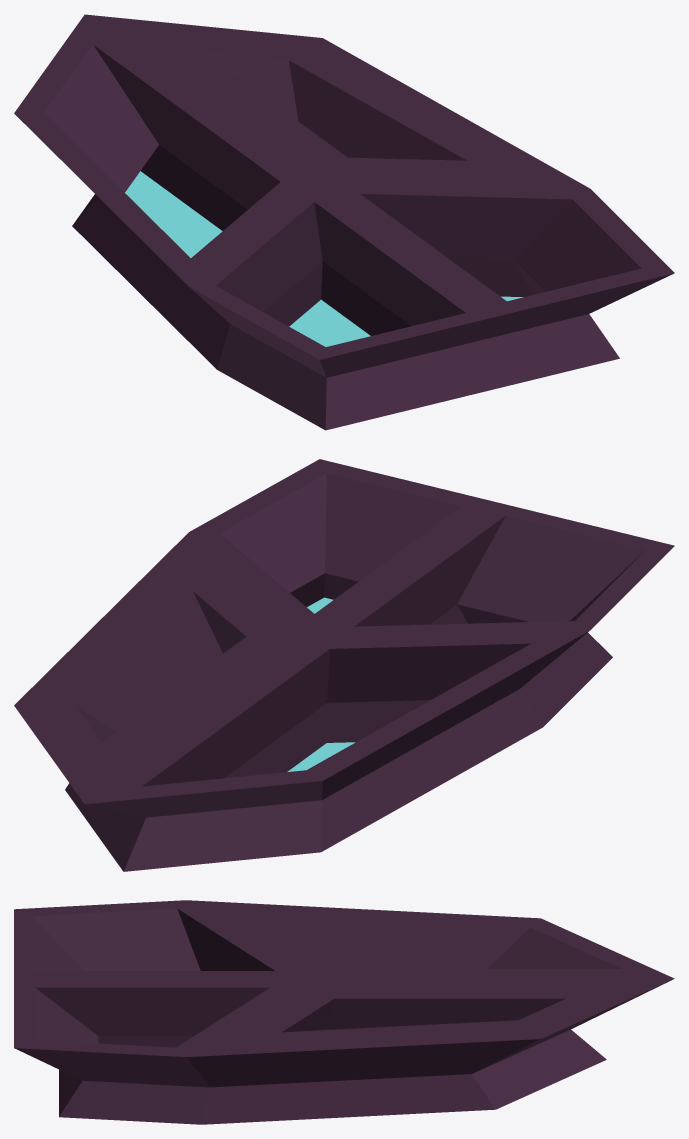
The model's file is window01.fbx.
3 views of the same model, one above another, from view 1: azimuth 30°, elevation 25°; view 2: azimuth 150°, elevation 25°; view 3: azimuth 270°, elevation 25° (orthographic). The views are drawn at different scales.
Parts seen in each view (by area): view 1: Plane; view 2: Plane; view 3: Plane.
Part boxes in pixels (<box>): Plane: <box>14,14,674,430</box>; Plane: <box>14,459,674,871</box>; Plane: <box>14,900,674,1124</box>.
Bounding box in the file's own units: 273 × 64.49 × 485.
